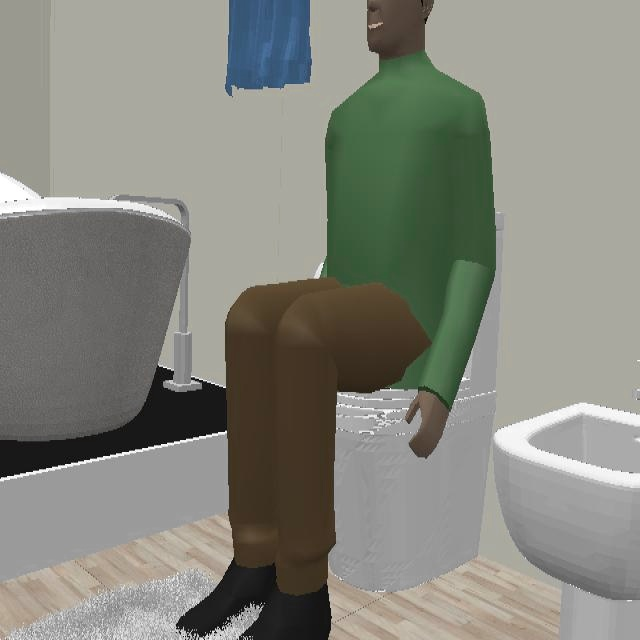bathtube: (0, 185, 192, 444)
person: (179, 0, 496, 640)
toilet: (328, 227, 505, 595)
washbasin: (493, 403, 640, 640)
